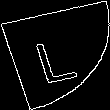L_N: (29, 26, 81, 84)
